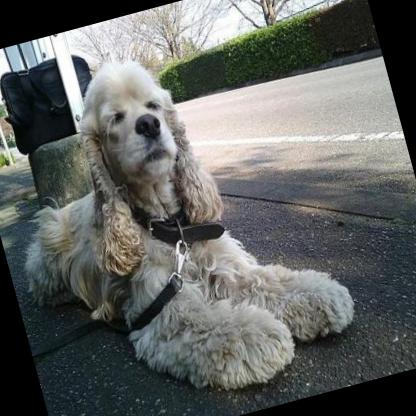cocker_spaniel: (0, 8, 370, 416)
